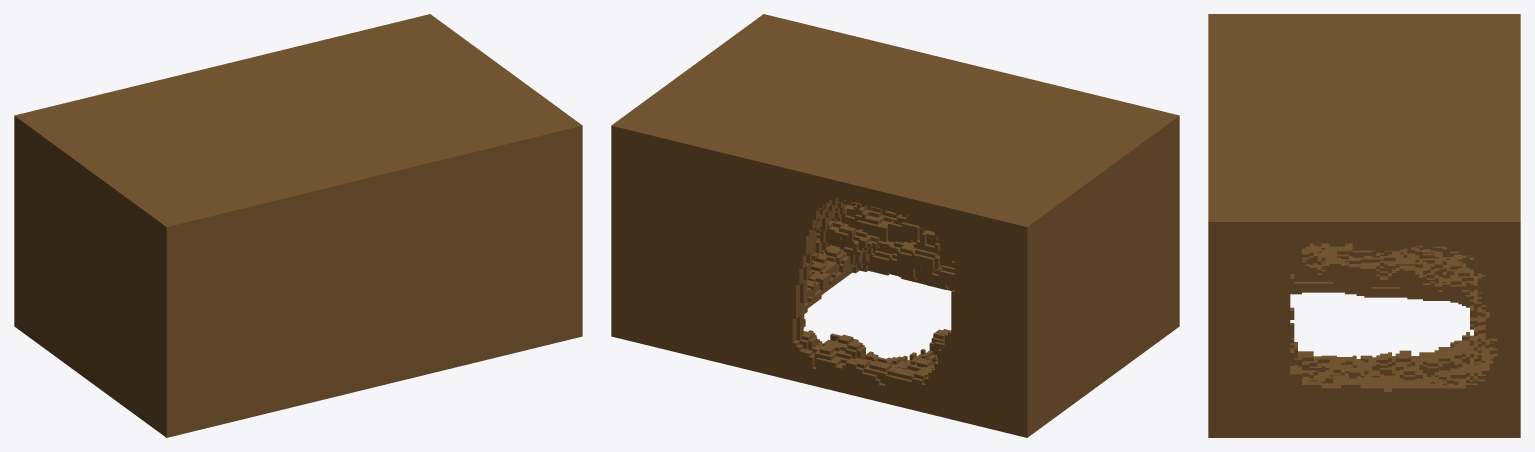
File: Level 1 Final_Player Cube.obj
3 views of the same model, side by side, from view 1: azimuth 30°, elevation 25°; view 2: azimuth 150°, elevation 25°; view 3: azimuth 270°, elevation 25° (orthographic). The views are drawn at different scales.
Bounding box in the file's own units: 126 × 61 × 80.
1 material, 1 textured.
